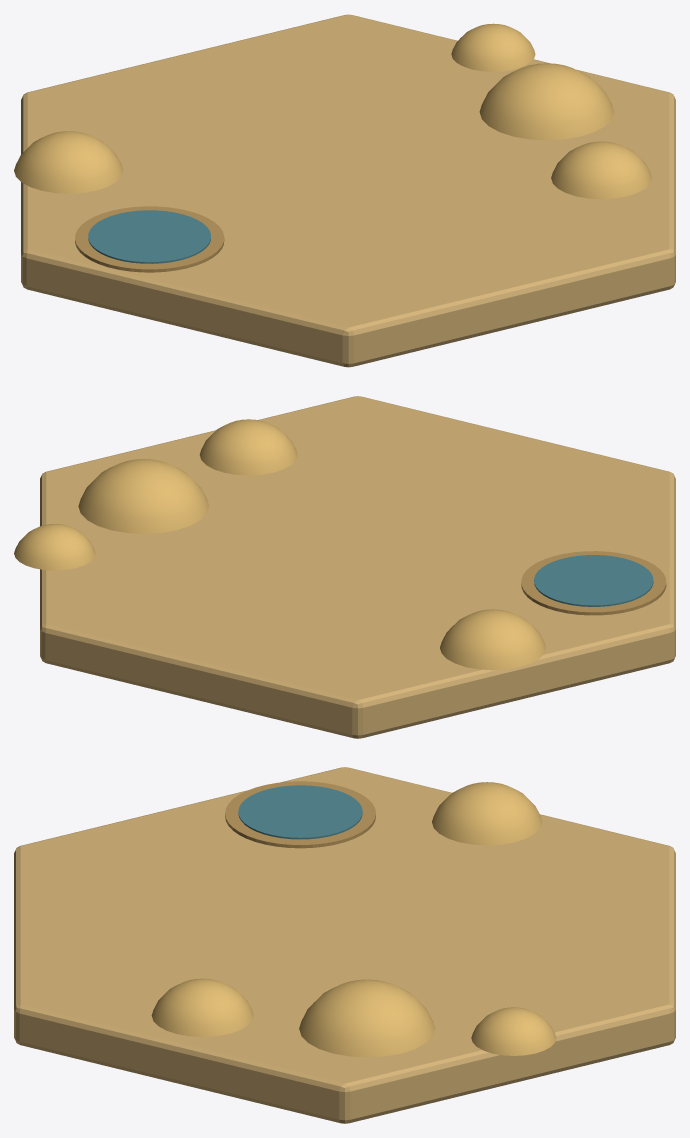
File: quadra-areal.glb
The picture shows the model from 3 angles, top to bottom: view 1: azimuth 30°, elevation 25°; view 2: azimuth 150°, elevation 25°; view 3: azimuth 270°, elevation 25°; orthographic projection. The views are drawn at different scales.
Parts seen in each view (by area): view 1: lote, montinho, lagoa, montinho.002, montinho.001, montinho.003, margem; view 2: lote, montinho, lagoa, montinho.002, montinho.001, montinho.003, margem; view 3: lote, montinho, lagoa, montinho.002, montinho.001, montinho.003, margem.
Part boxes in pixels (left/top/right/bottom): lote: left=21, top=14, right=675, bottom=367; montinho: left=479, top=63, right=614, bottom=140; lagoa: left=88, top=210, right=210, bottom=263; montinho.002: left=14, top=131, right=123, bottom=193; montinho.001: left=551, top=141, right=651, bottom=199; montinho.003: left=451, top=23, right=535, bottom=71; margem: left=75, top=206, right=224, bottom=272; lote: left=40, top=396, right=675, bottom=738; montinho: left=78, top=459, right=209, bottom=533; lagoa: left=534, top=555, right=653, bottom=606; montinho.002: left=440, top=609, right=545, bottom=670; montinho.001: left=199, top=419, right=297, bottom=475; montinho.003: left=14, top=524, right=95, bottom=570; margem: left=521, top=551, right=666, bottom=615; lote: left=14, top=767, right=675, bottom=1123; montinho: left=299, top=979, right=435, bottom=1057; lagoa: left=238, top=785, right=362, bottom=839; montinho.002: left=432, top=782, right=542, bottom=845; montinho.001: left=151, top=978, right=253, bottom=1036; montinho.003: left=471, top=1007, right=556, bottom=1055; margem: left=225, top=781, right=375, bottom=848.
Size of the model in its own units: 1.71 by 0.204 by 1.49.
